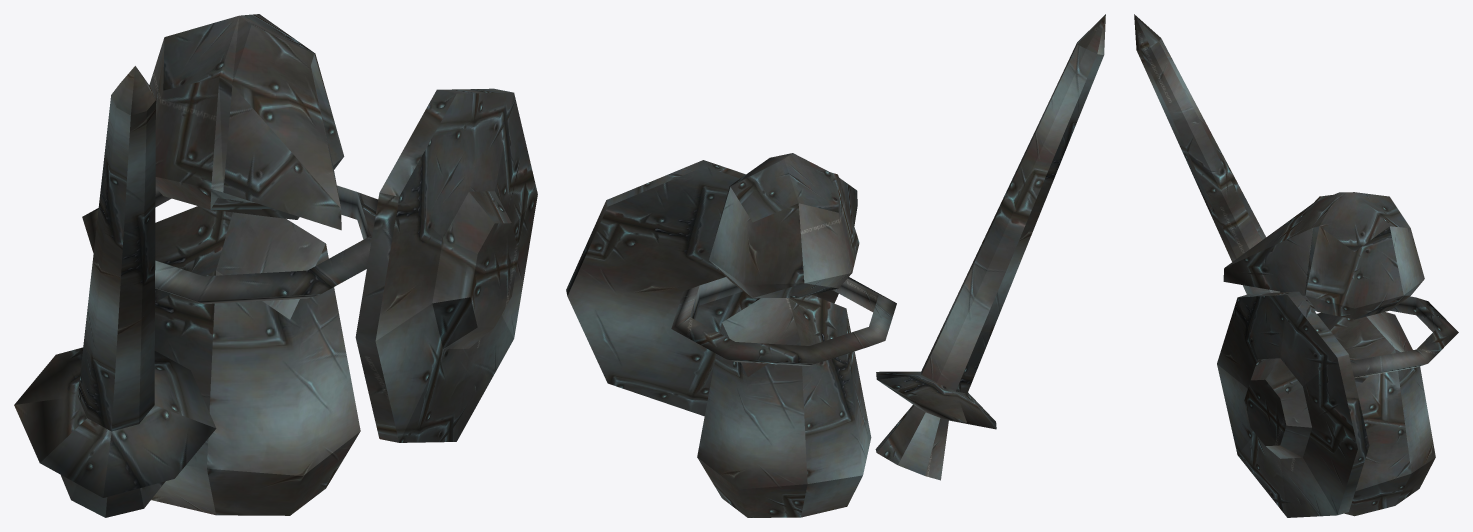
Rendered from minion.FBX.
The picture shows the model from 3 angles, left to right: view 1: azimuth 30°, elevation 25°; view 2: azimuth 150°, elevation 25°; view 3: azimuth 270°, elevation 25°; orthographic projection. The views are drawn at different scales.
Parts seen in each view (by area): view 1: Pyramid001; view 2: Pyramid001; view 3: Pyramid001.
Part boxes in pixels (box(x1,y1,x2,y2)): Pyramid001: box(14, 14, 537, 517); Pyramid001: box(566, 14, 1105, 517); Pyramid001: box(1134, 14, 1458, 517).
Size of the model in its own units: 54.55 by 53.99 by 40.9.
